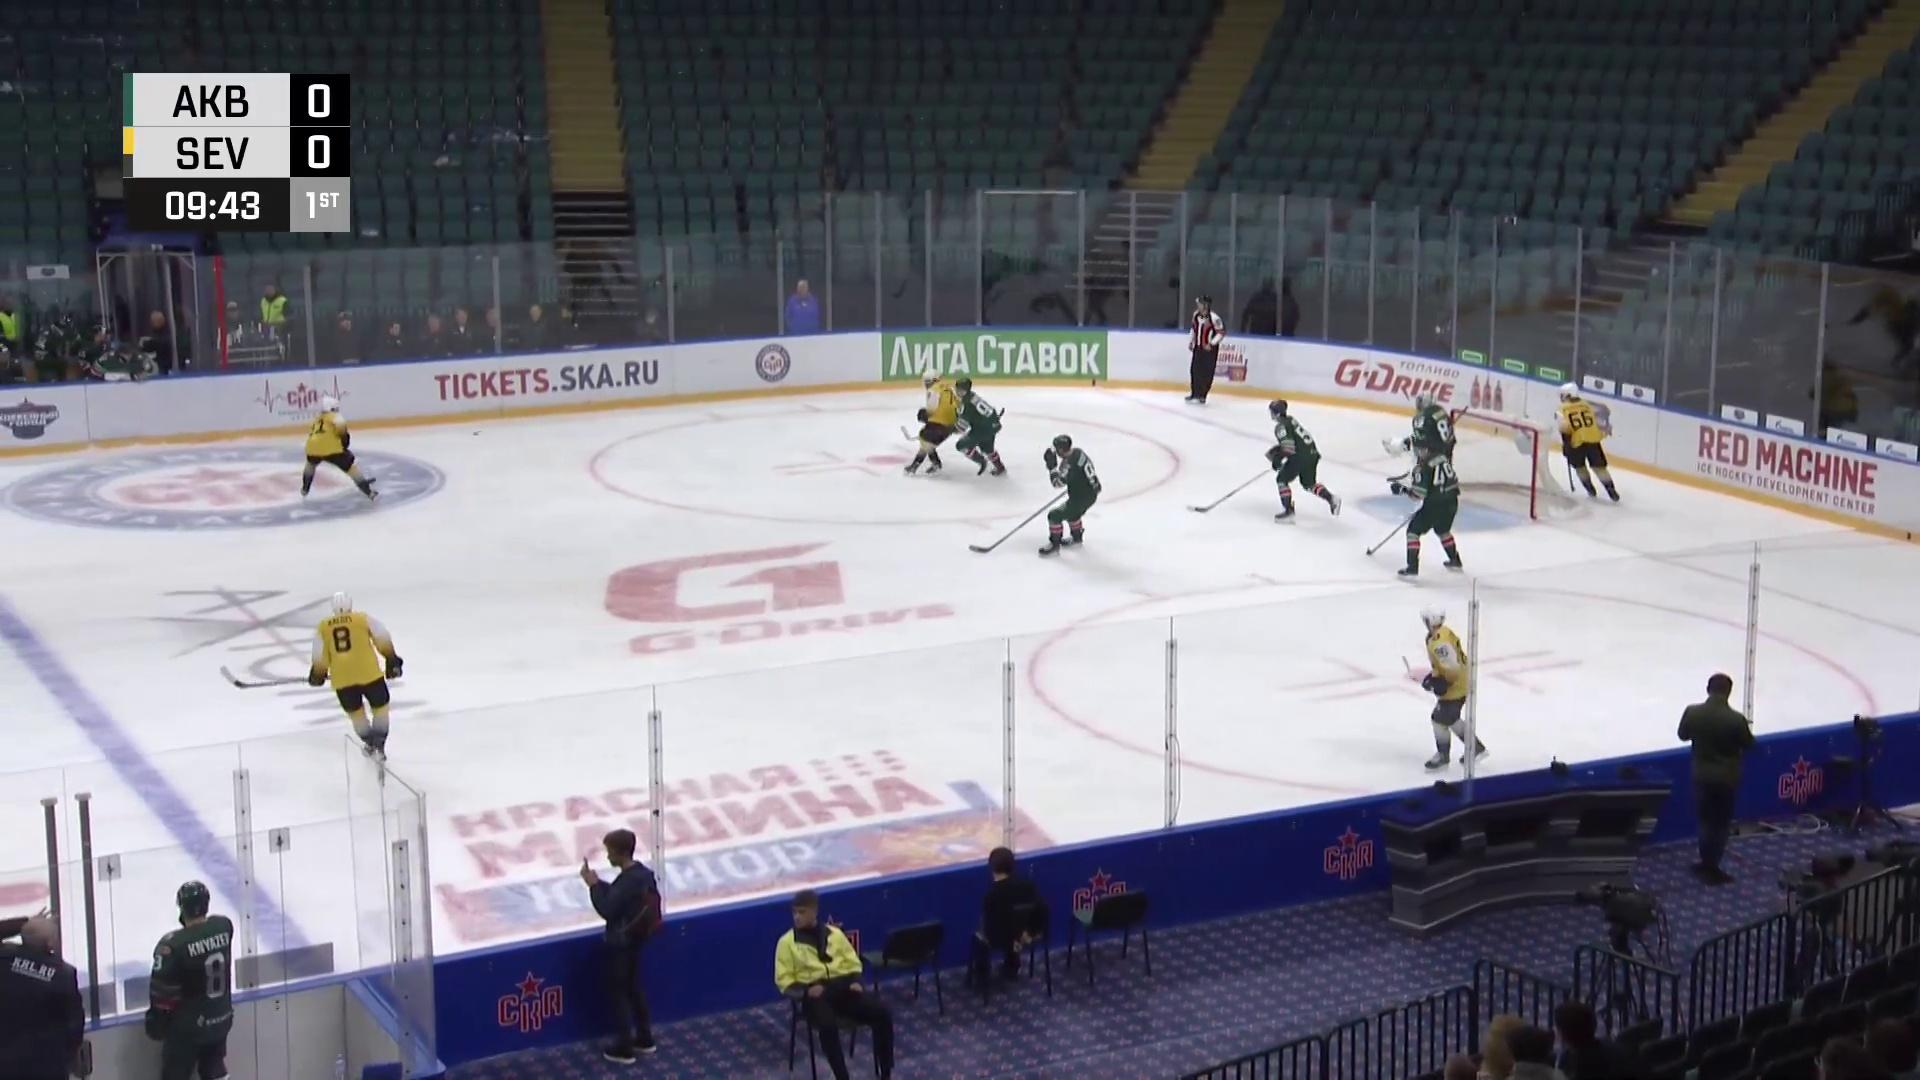ball: (472, 431, 480, 436)
